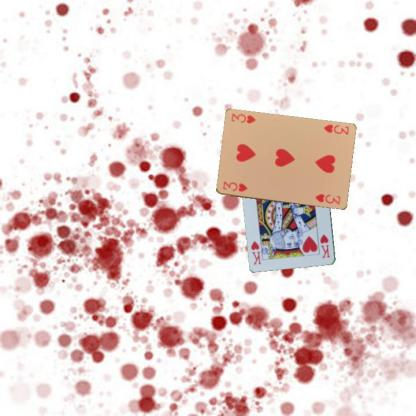3h: (320, 122, 350, 136), (220, 179, 249, 193)
Kh: (318, 232, 331, 259)
